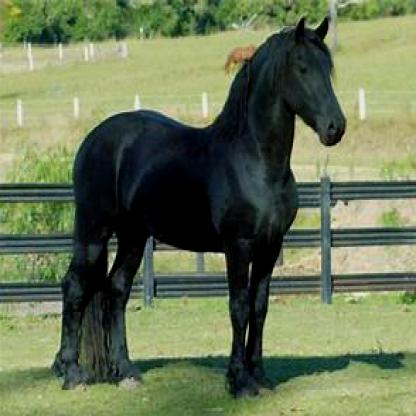horse: (54, 14, 344, 392)
